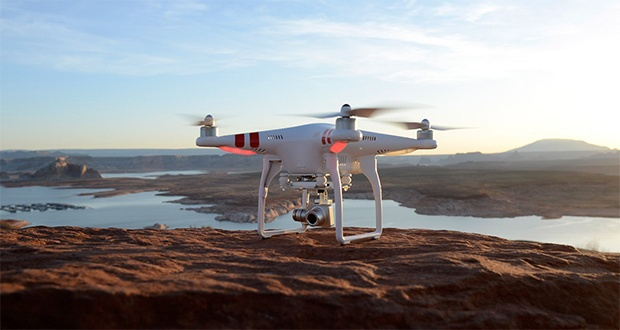DJI: (195, 103, 441, 246)
